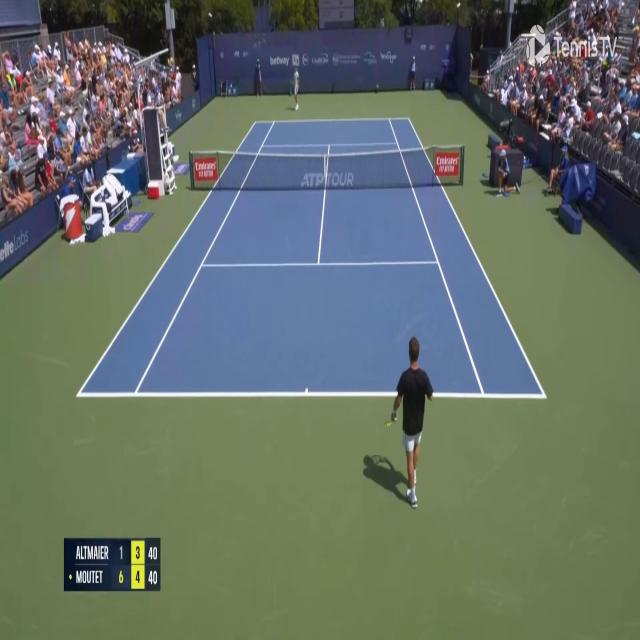tennis-player: (381, 332, 434, 509), (288, 64, 301, 110)
